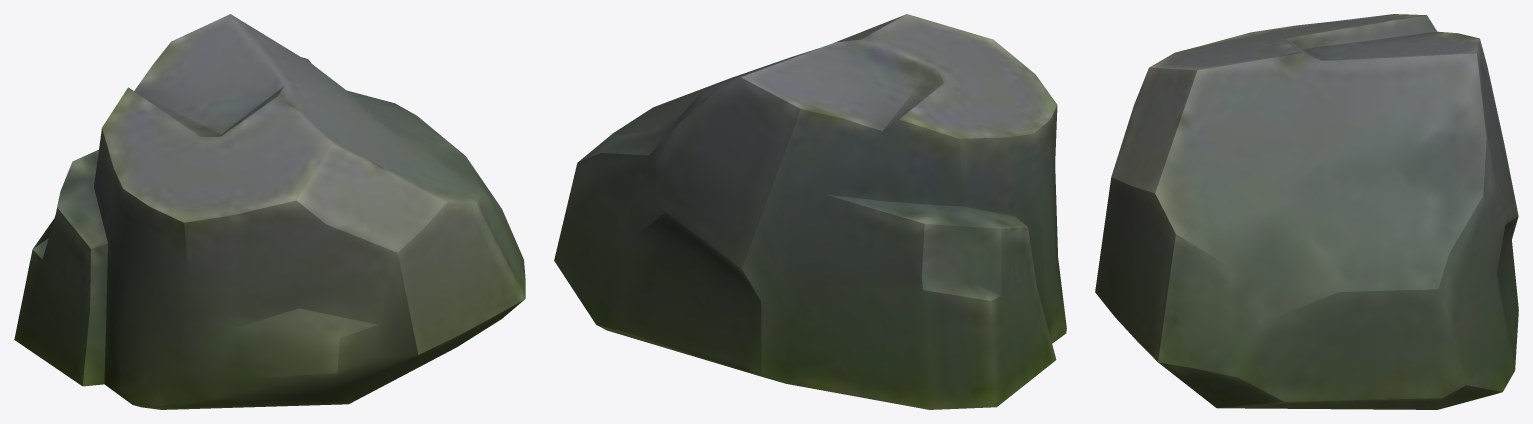
Rendered from Rock_Medium_2.gltf.
The picture shows the model from 3 angles, left to right: view 1: azimuth 30°, elevation 25°; view 2: azimuth 150°, elevation 25°; view 3: azimuth 270°, elevation 25°; orthographic projection. The views are drawn at different scales.
Parts seen in each view (by area): view 1: Rock_Medium_2; view 2: Rock_Medium_2; view 3: Rock_Medium_2.
Boxes of the visible parts, <box> form: Rock_Medium_2: <box>14,14,525,409</box>; Rock_Medium_2: <box>554,14,1066,409</box>; Rock_Medium_2: <box>1095,14,1518,409</box>.
Size of the model in its own units: 3.05 by 1.9 by 2.48.
1 material, 1 textured.
